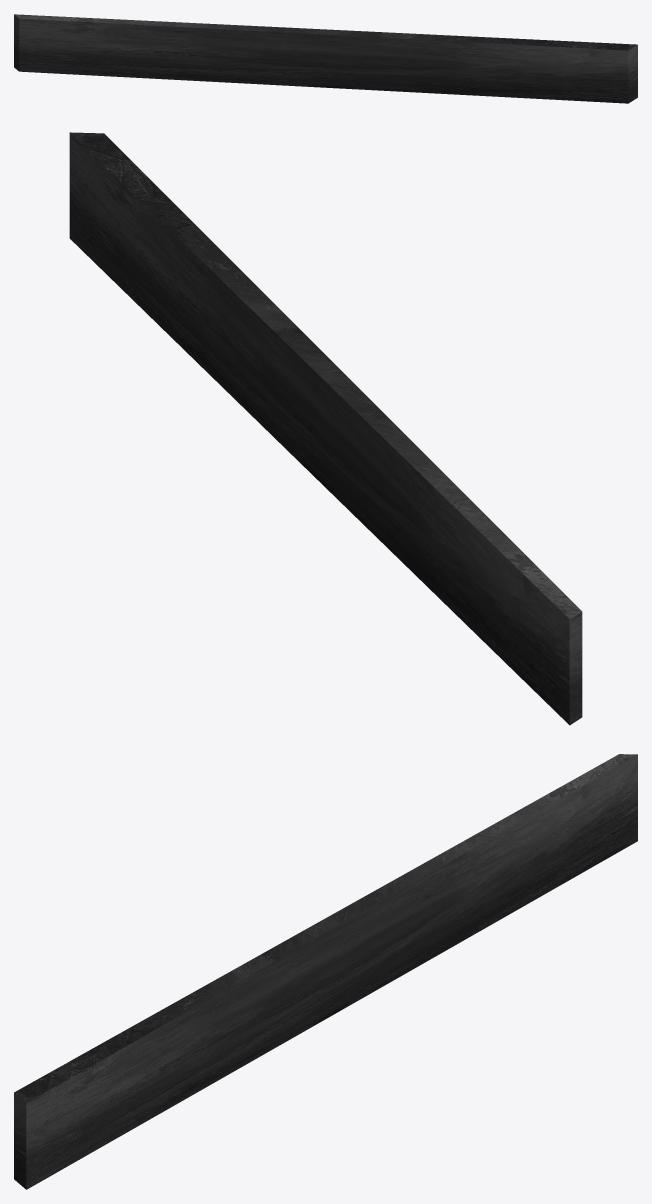
The model's file is noir5.FBX.
3 renders of one model, top to bottom at view 1: azimuth 30°, elevation 25°; view 2: azimuth 150°, elevation 25°; view 3: azimuth 270°, elevation 25°, orthographic. The views are drawn at different scales.
Parts seen in each view (by area): view 1: Ligne008; view 2: Ligne008; view 3: Ligne008.
Part boxes in pixels (<box>): Ligne008: <box>14,14,637,103</box>; Ligne008: <box>69,132,582,725</box>; Ligne008: <box>14,754,637,1189</box>.
Bounding box in the file's own units: 10.22 × 1.18 × 7.72.
1 material, 1 textured.
